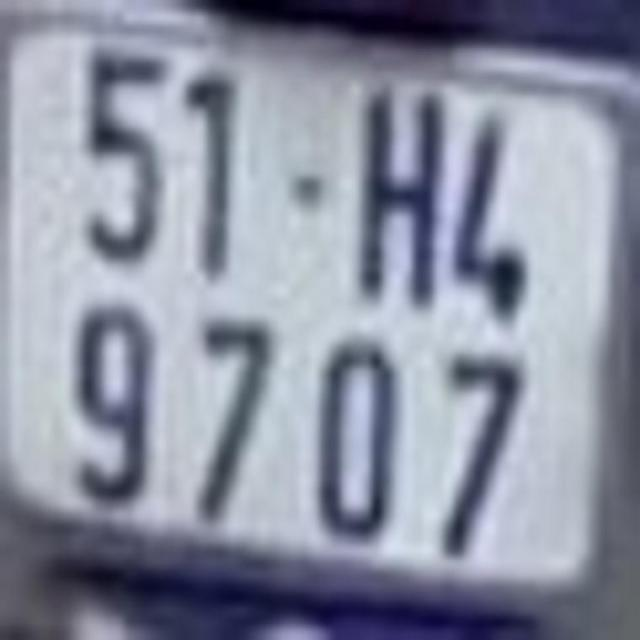0: (321, 330, 401, 535)
1: (187, 59, 244, 279)
4: (456, 104, 526, 323)
5: (89, 51, 171, 268)
7: (192, 312, 272, 525), (448, 351, 526, 560)
9: (75, 297, 145, 505)
H: (358, 76, 438, 314)
